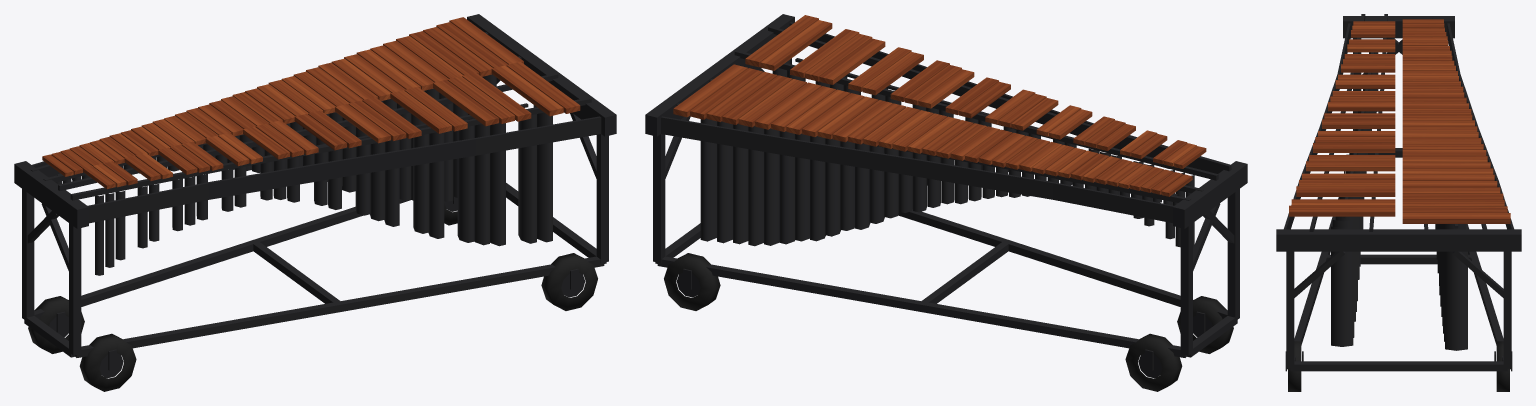
File: marimba-5.0-synthetic-black-low.glb
The picture shows the model from 3 angles, left to right: view 1: azimuth 30°, elevation 25°; view 2: azimuth 150°, elevation 25°; view 3: azimuth 270°, elevation 25°; orthographic projection. The views are drawn at different scales.
Visible parts, largest first — view 1: bars-synthetic, frame, resonators-black, artwork, rubber; view 2: frame, bars-synthetic, resonators-black, rubber; view 3: bars-synthetic, frame, resonators-black, rubber.
Part boxes in pixels (left/top/right/bottom): bars-synthetic: left=42, top=17, right=580, bottom=189; frame: left=14, top=14, right=616, bottom=378; resonators-black: left=56, top=74, right=552, bottom=275; artwork: left=89, top=117, right=601, bottom=223; rubber: left=28, top=203, right=597, bottom=391; frame: left=645, top=14, right=1247, bottom=378; bars-synthetic: left=673, top=15, right=1206, bottom=196; resonators-black: left=700, top=58, right=1194, bottom=247; rubber: left=664, top=253, right=1233, bottom=391; bars-synthetic: left=1289, top=19, right=1510, bottom=223; frame: left=1276, top=14, right=1521, bottom=371; resonators-black: left=1331, top=52, right=1467, bottom=350; rubber: left=1288, top=154, right=1509, bottom=391.
Size of the model in its own units: 2.54 by 0.9759 by 1.21.
Materials: 5 (1 with a texture image).
